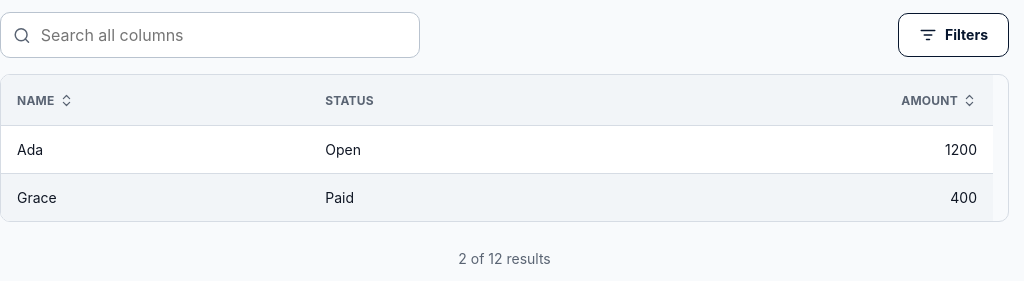
it: DataTable › uses accessible sortable column headers while leaving row order server-controlled
Click the button with aria-label "Sort Name ascending": x=45, y=100 [9, 82, 82, 118]
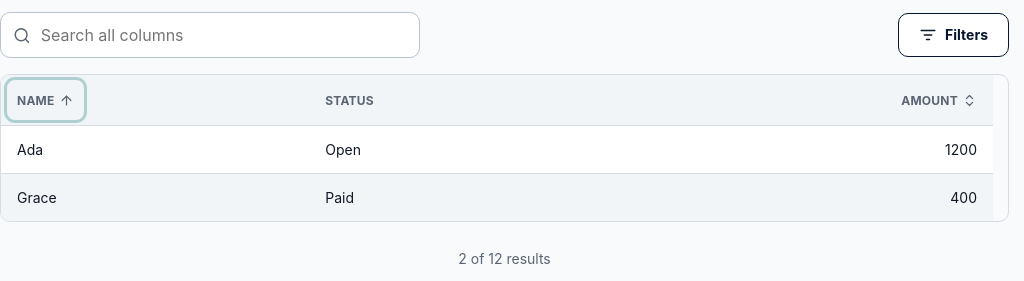
Check: the row "Ada Open 1200" is shown, box [1, 126, 993, 174]
Check: the button with aria-label "Sort Name descending" is shown, box [9, 82, 82, 118]
